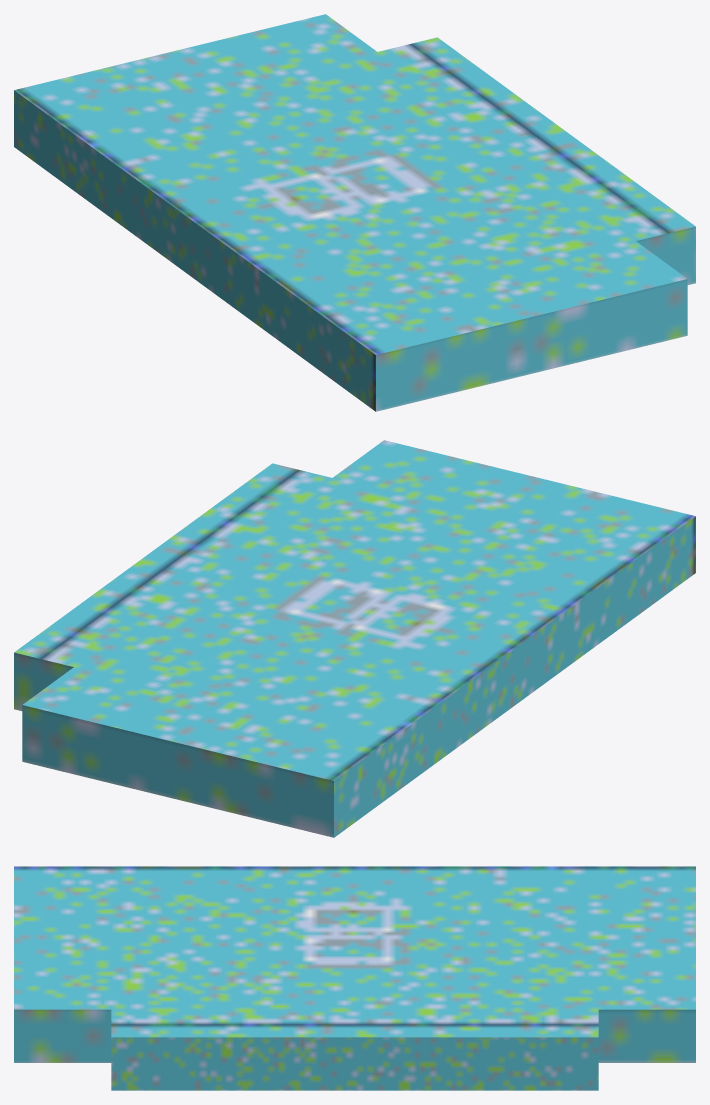
The model's file is ds-top.obj.
3 renders of one model, top to bottom at view 1: azimuth 30°, elevation 25°; view 2: azimuth 150°, elevation 25°; view 3: azimuth 270°, elevation 25°, orthographic. The views are drawn at different scales.
Visible parts, largest first — view 1: TOP; view 2: TOP; view 3: TOP.
Part boxes in pixels (x1,y1,x2,y2): TOP: [14, 14, 695, 411]; TOP: [14, 440, 695, 837]; TOP: [14, 866, 695, 1090].
Size of the model in its own units: 3.17 by 0.462 by 5.34.
